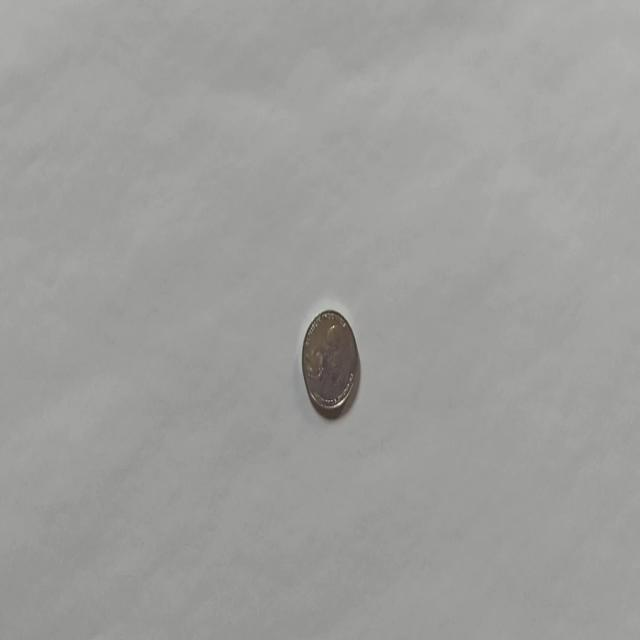lima ratus rupiah: (300, 308, 358, 416)
